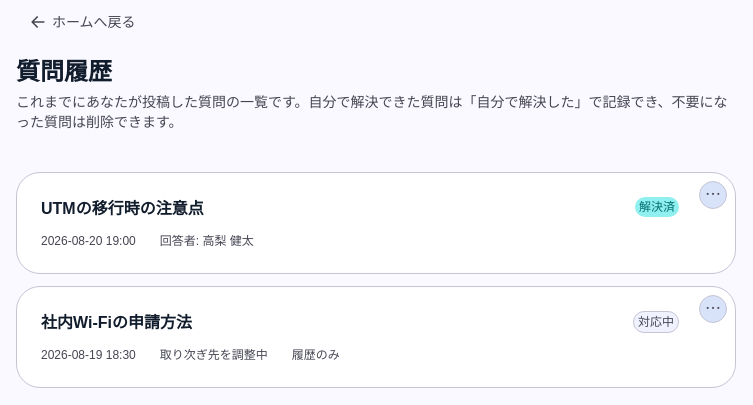
it: HistoryScreen › does not offer 自分で解決した for an already-resolved question
Expected: the heading "UTMの移行時の注意点" is shown, top-left (41, 197), bottom-right (204, 221)
Click the button "⋯" in the row of "UTMの移行時の注意点". click: (713, 195)
box: top-left (699, 181), bottom-right (727, 209)
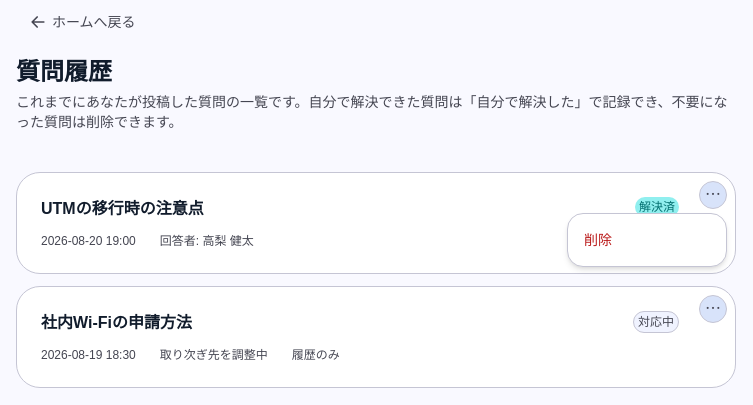
Now the menu item "削除" is shown, box top-left (572, 218), bottom-right (722, 262)
